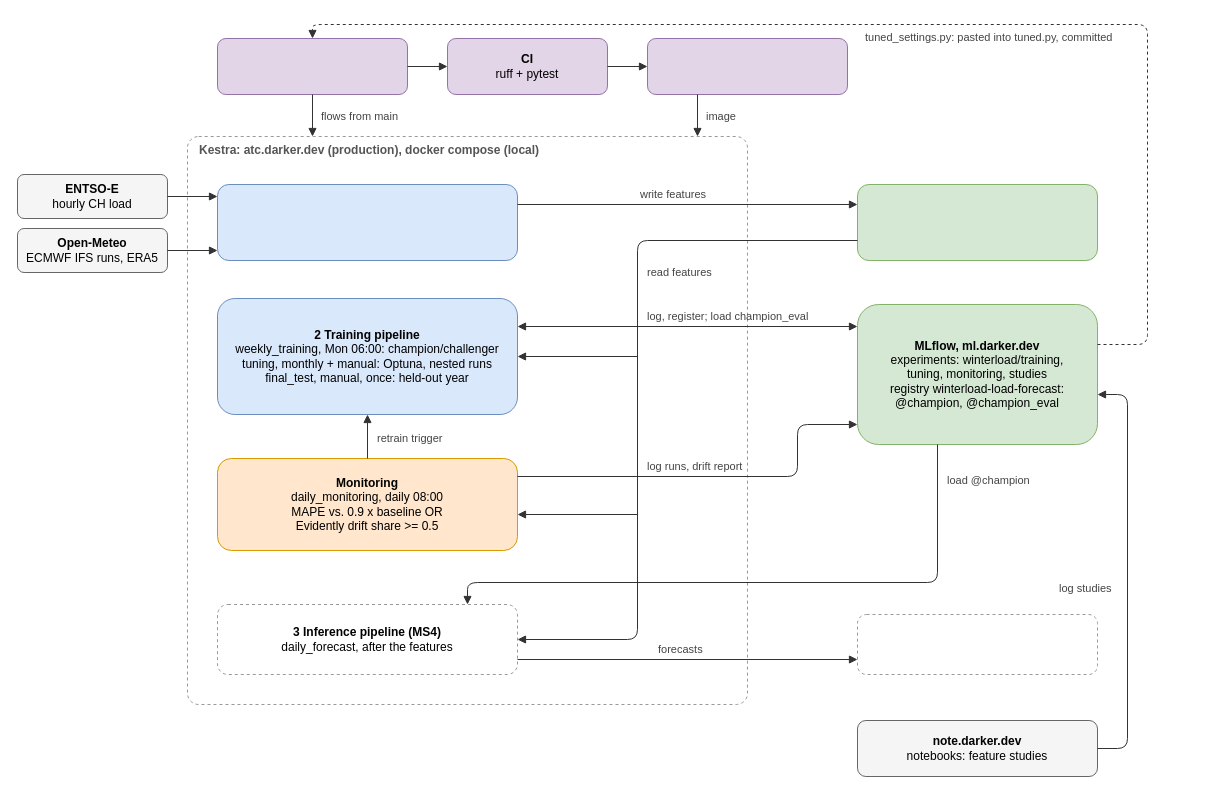
This 1231x794 diagram has some shape labels left out. Each missing label, with the centre of its shape:
"1 Feature pipeline daily_forecast, daily 07:00 backfills over the last 7 days" belongs at point (367, 222).
"Feature store BigQuery behind Feast (local: SeaweedFS S3)" belongs at point (977, 222).
"GitHub repo code, flows, tuned.py" belongs at point (312, 66).
"publish-image ghcr.io, tagged with git SHA" belongs at point (747, 66).
"UI (MS4) forecast vs. actual" belongs at point (977, 644).
